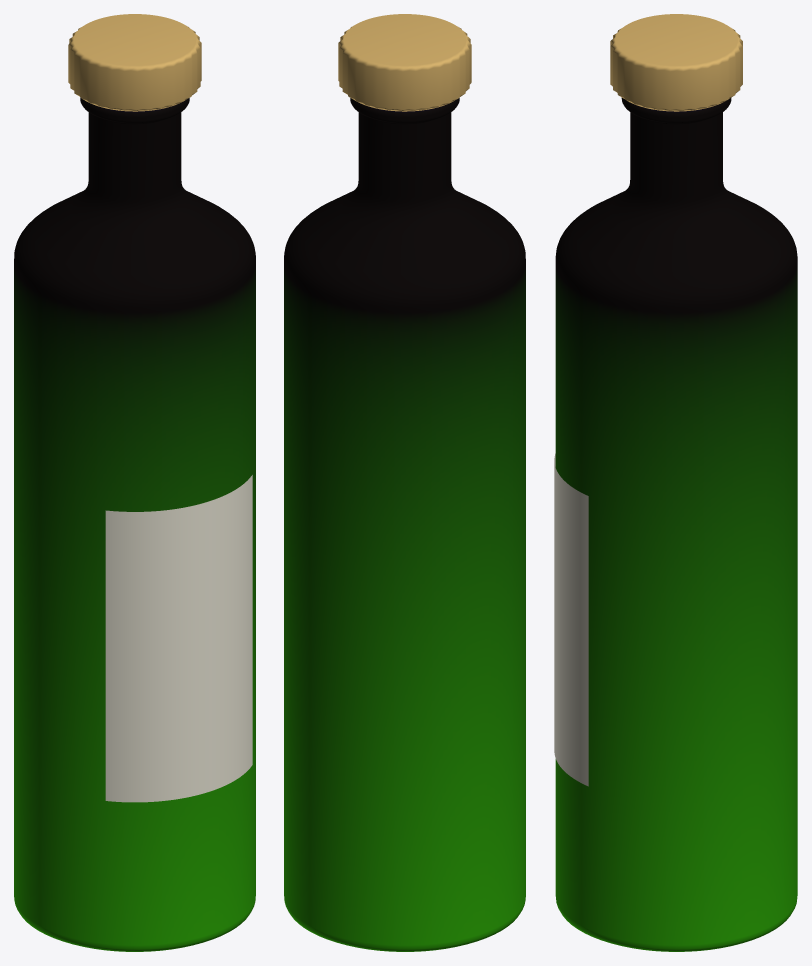
Rendered from SodaBottle.fbx.
3 renders of one model, left to right at view 1: azimuth 30°, elevation 25°; view 2: azimuth 150°, elevation 25°; view 3: azimuth 270°, elevation 25°, orthographic.
Parts seen in each view (by area): view 1: SodaBottle::GlassShell, SodaBottle::OriginalLabel, SodaBottle::Cap::CrownOrScrewCap; view 2: SodaBottle::GlassShell, SodaBottle::Cap::CrownOrScrewCap; view 3: SodaBottle::GlassShell, SodaBottle::Cap::CrownOrScrewCap, SodaBottle::OriginalLabel.
Part boxes in pixels (box(x1,y1,x2,y2)): SodaBottle::GlassShell: box(14, 97, 255, 951); SodaBottle::OriginalLabel: box(105, 475, 252, 802); SodaBottle::Cap::CrownOrScrewCap: box(68, 14, 201, 111); SodaBottle::GlassShell: box(284, 98, 525, 951); SodaBottle::Cap::CrownOrScrewCap: box(338, 14, 471, 111); SodaBottle::GlassShell: box(555, 97, 797, 951); SodaBottle::Cap::CrownOrScrewCap: box(610, 14, 742, 111); SodaBottle::OriginalLabel: box(554, 453, 588, 786).
Size of the model in its own units: 5.74 by 22.6 by 5.77.
